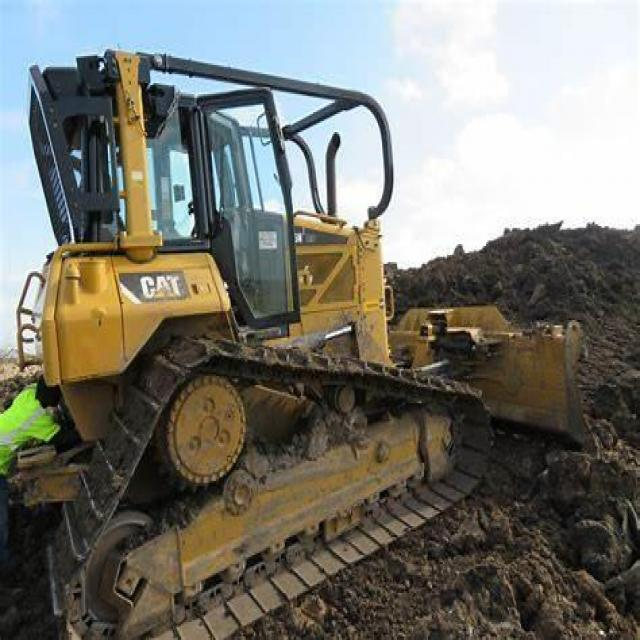Bulldozer: (21, 45, 604, 604)
